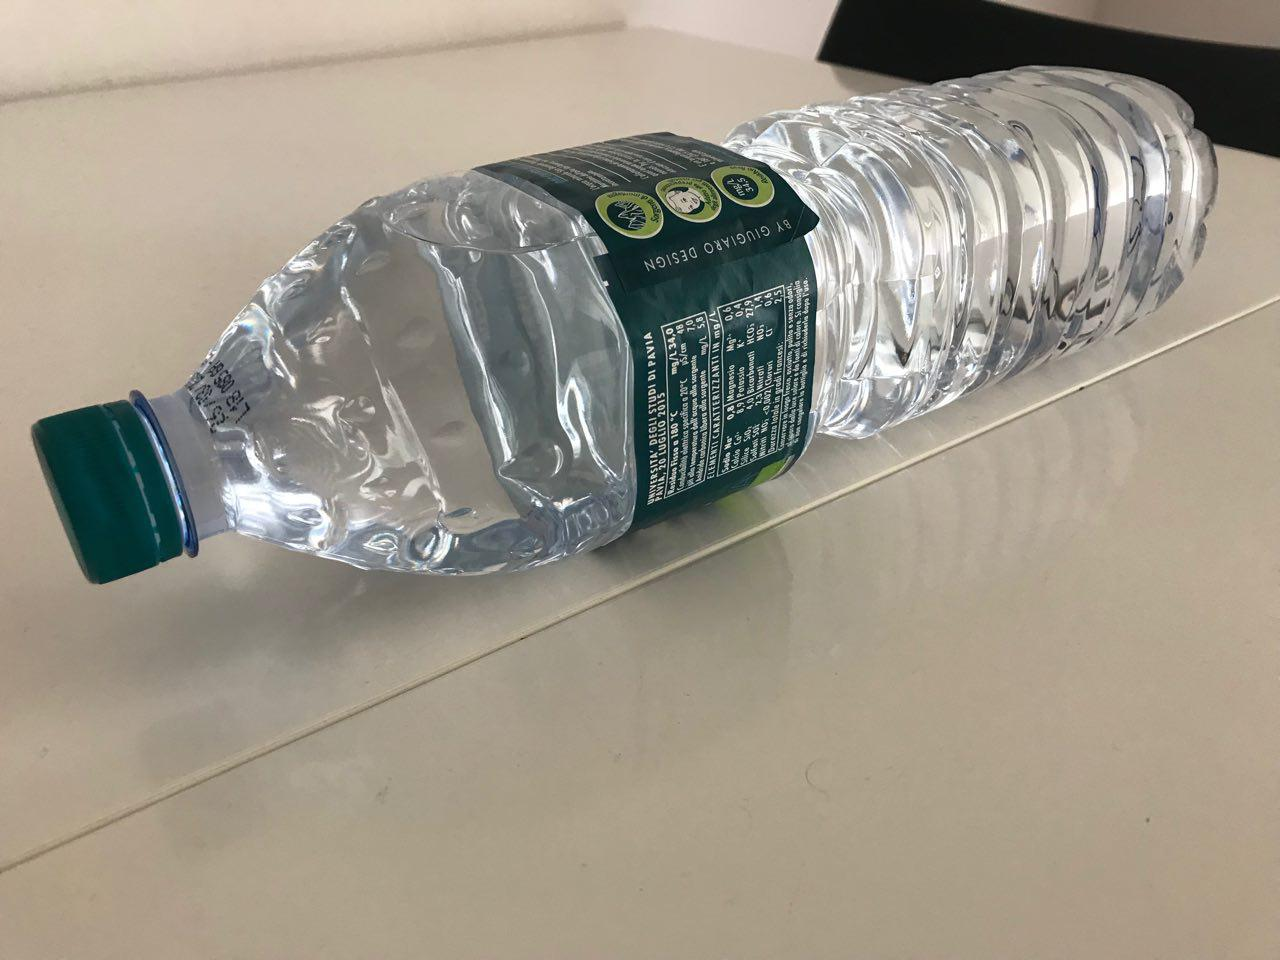san_bernardo: (28, 61, 1220, 586)
